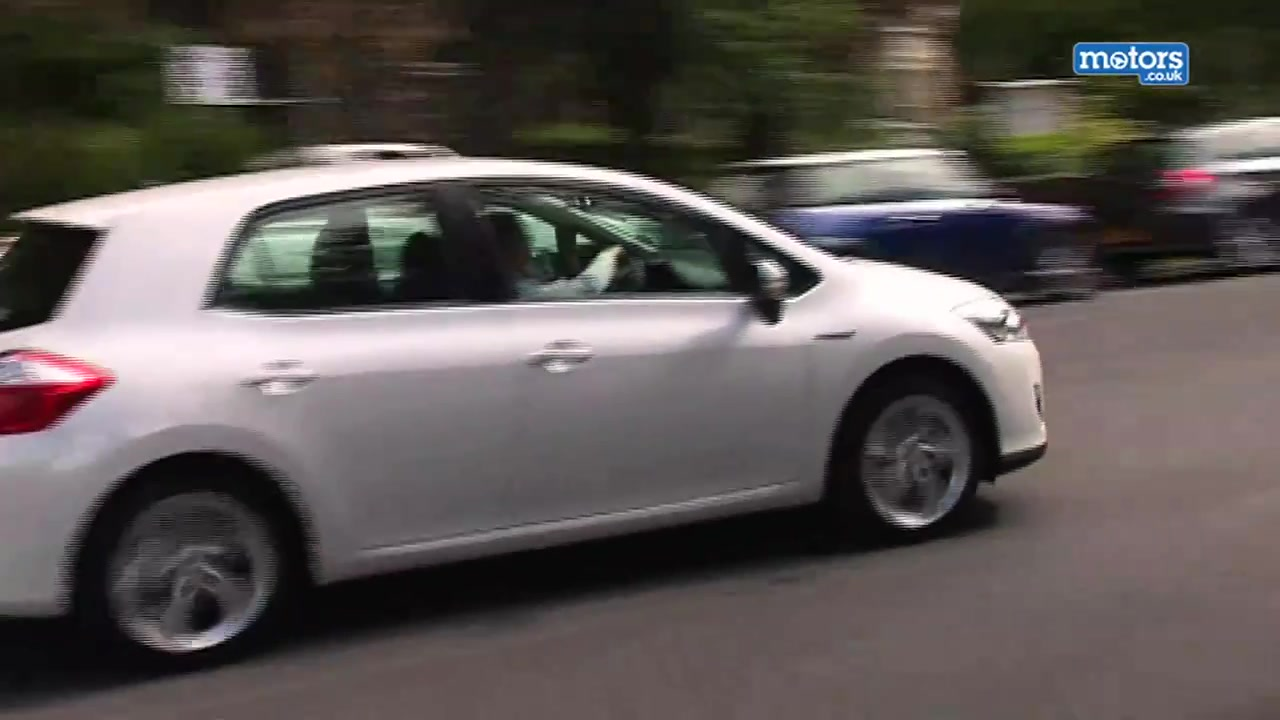car: (1, 144, 1054, 672), (672, 143, 1105, 306), (225, 150, 664, 284), (1097, 117, 1280, 275)
